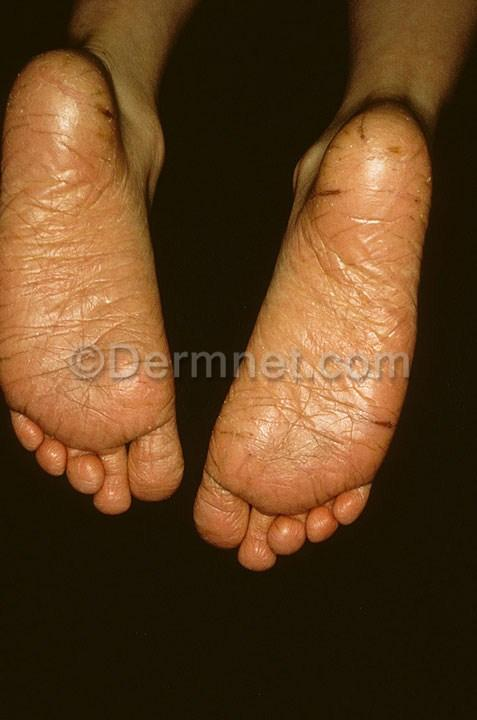Eczema: (262, 287, 343, 358), (55, 136, 131, 202), (309, 166, 394, 222), (62, 345, 123, 419), (277, 249, 358, 303), (211, 405, 290, 460), (303, 354, 354, 439), (8, 125, 57, 211), (241, 455, 311, 515), (369, 275, 419, 355), (0, 352, 64, 414), (105, 280, 163, 347), (326, 126, 389, 186), (48, 211, 101, 281), (48, 282, 106, 344), (0, 212, 44, 290), (353, 220, 406, 283), (128, 354, 177, 422), (310, 433, 360, 499), (287, 205, 346, 260), (358, 342, 403, 412), (0, 289, 51, 350), (102, 214, 147, 283), (244, 350, 303, 399), (343, 411, 384, 477), (390, 162, 438, 217), (281, 390, 320, 455), (57, 63, 99, 118), (191, 494, 241, 539), (334, 290, 369, 354), (387, 124, 432, 170), (399, 206, 427, 278), (147, 425, 179, 481), (203, 454, 244, 497), (17, 75, 52, 124), (360, 107, 417, 135), (50, 419, 91, 450), (17, 418, 52, 454), (124, 446, 155, 486), (99, 424, 141, 452), (235, 527, 269, 561), (264, 513, 298, 547), (333, 480, 359, 515), (221, 380, 255, 405), (69, 456, 97, 486), (98, 470, 123, 501), (303, 503, 326, 536), (49, 450, 77, 477), (253, 324, 271, 355)
